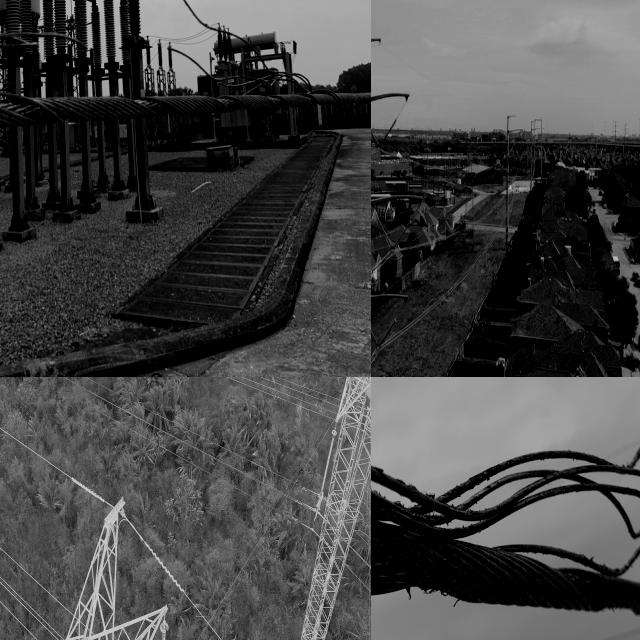杆塔: (0, 479, 185, 640), (275, 377, 371, 640)
正常绝缘子: (314, 423, 342, 513), (375, 212, 396, 253), (389, 218, 414, 250), (375, 317, 398, 350), (376, 117, 398, 151), (371, 126, 381, 150), (371, 326, 381, 348)
电缆破损: (371, 377, 640, 620), (0, 0, 347, 140)
